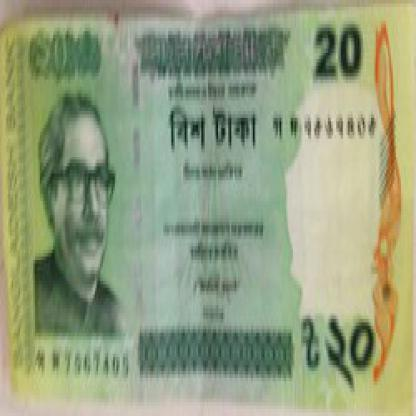Twenty: (300, 284, 378, 399), (32, 24, 128, 87), (163, 100, 261, 160), (311, 17, 368, 90)
